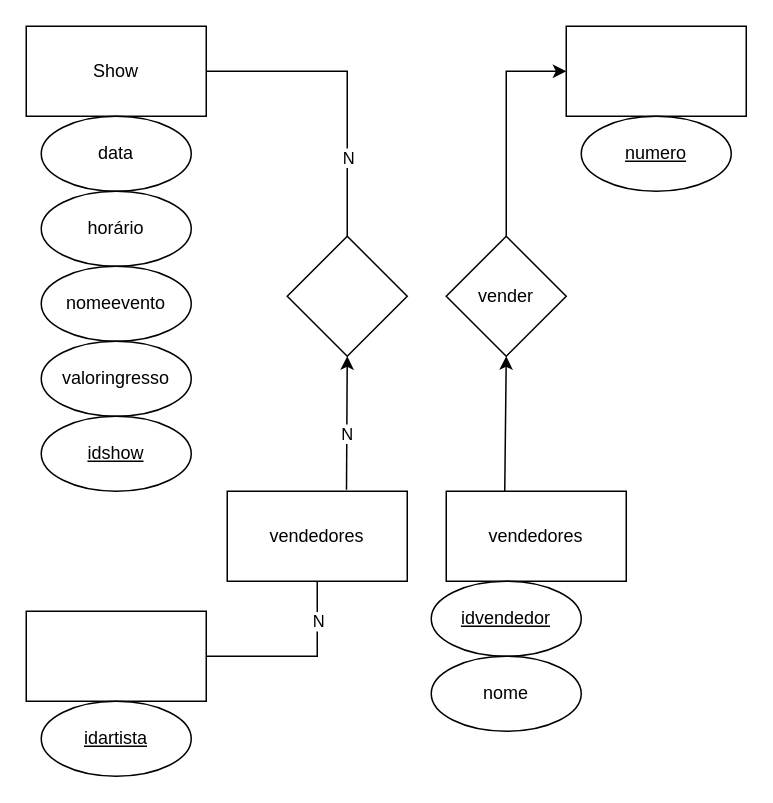
Some shapes in this 773 by 803 pixel diagram are drawn without their labels. The shapes that lost their labels are listed below. From the top down, each one's box as (x1, y1, x2, y2) in pixels, then its label:
(565, 25, 746, 116): Ingresso
(286, 235, 407, 356): faz
(25, 610, 206, 701): artista
